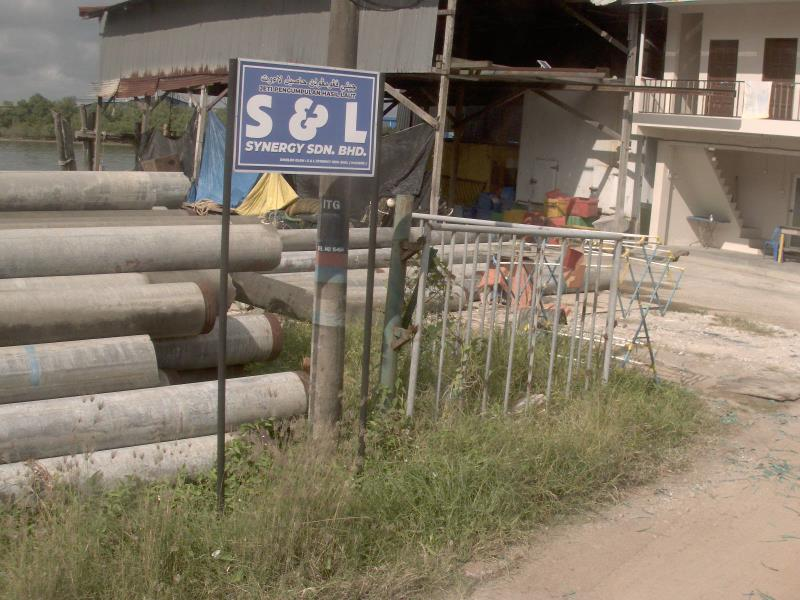ads_sign: (225, 50, 390, 183)
